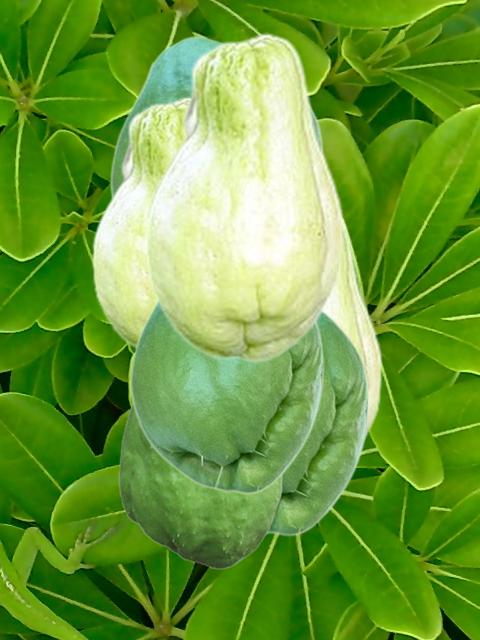sayote: (144, 32, 342, 362), (129, 304, 323, 494), (109, 36, 323, 197), (118, 403, 282, 568), (91, 96, 186, 350), (268, 311, 368, 536), (326, 214, 381, 446)
